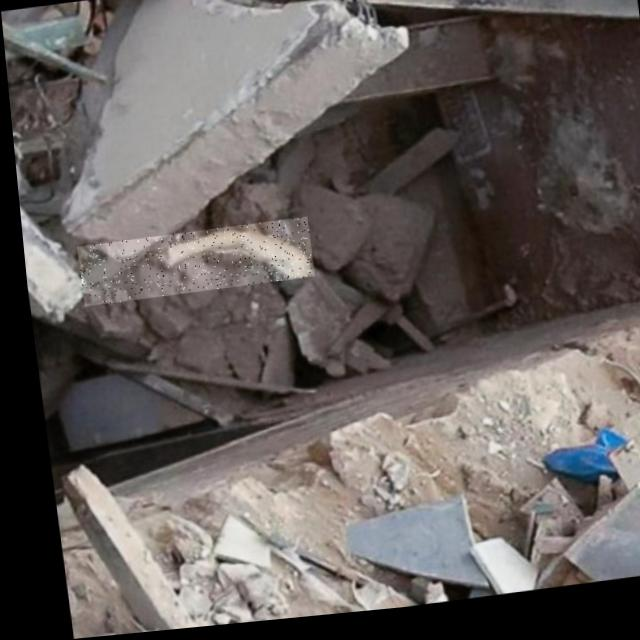Person in Rubble: (70, 222, 308, 308)
